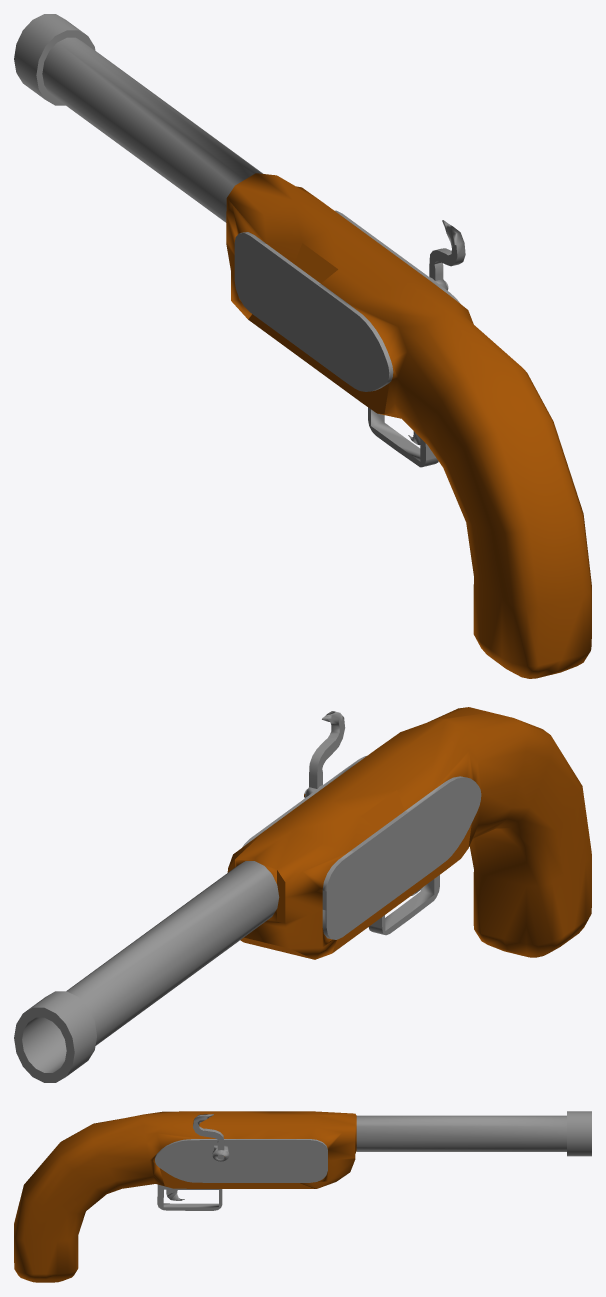
The model's file is musket.glb.
The picture shows the model from 3 angles, top to bottom: view 1: azimuth 30°, elevation 25°; view 2: azimuth 150°, elevation 25°; view 3: azimuth 270°, elevation 25°; orthographic projection. The views are drawn at different scales.
Parts seen in each view (by area): view 1: Cube.002; view 2: Cube.002; view 3: Cube.002.
Part boxes in pixels (x1,y1,x2,y2): Cube.002: (14, 14, 591, 678); Cube.002: (14, 707, 591, 1082); Cube.002: (14, 1111, 591, 1282).
Size of the model in its own units: 0.0397 by 0.1052 by 0.3086.
